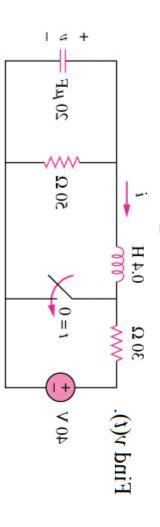Capacitor: (39, 37, 80, 79)
